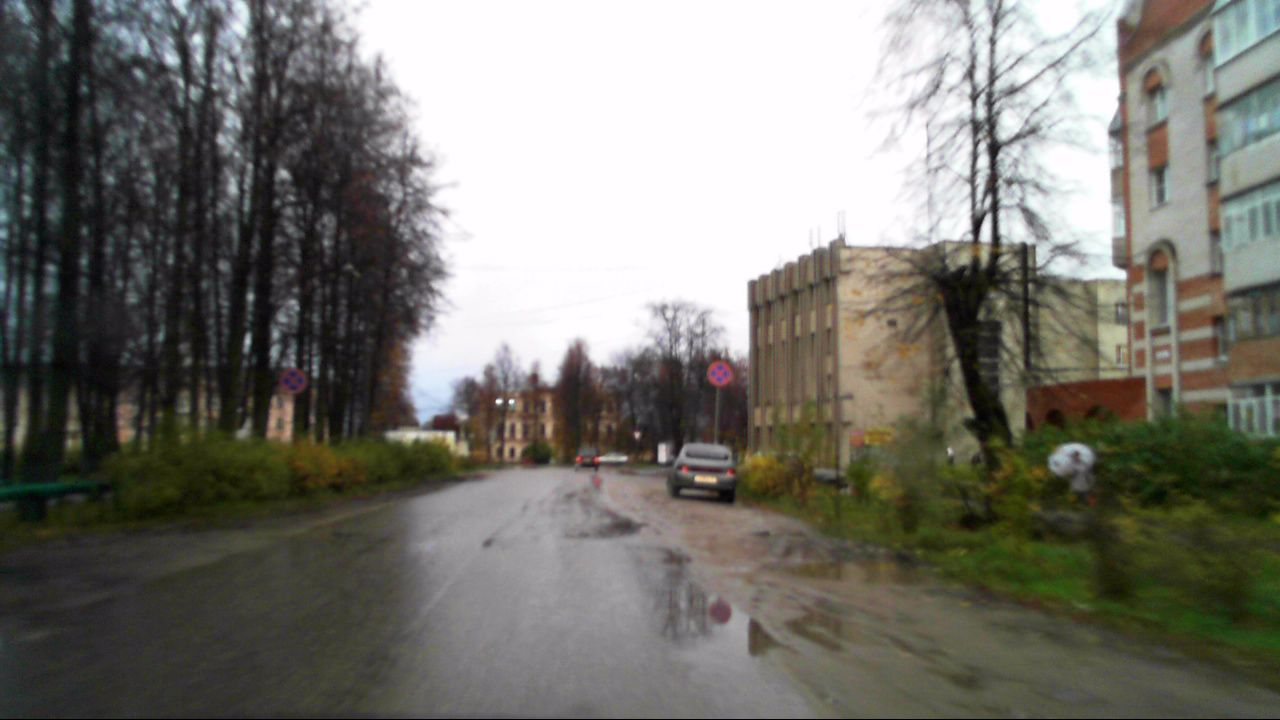No Parking: (706, 360, 733, 387)
